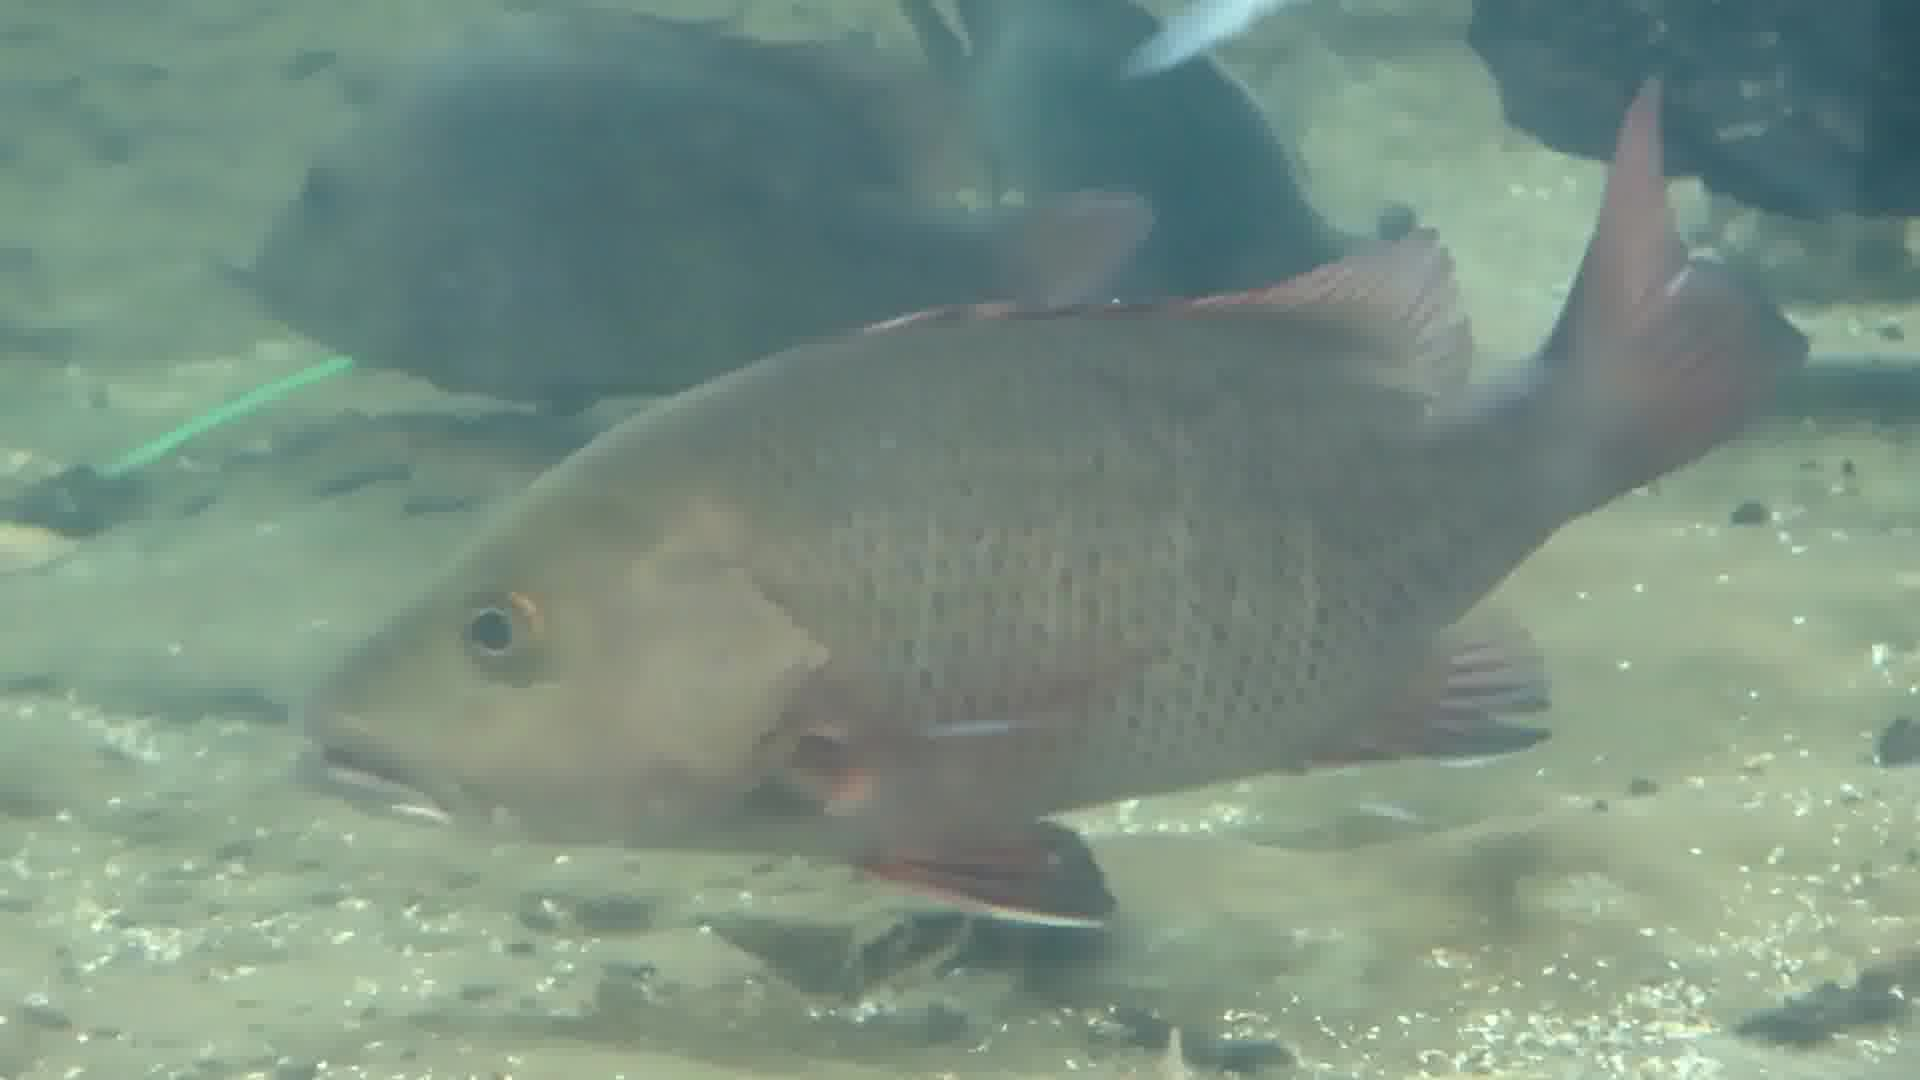Lutjanus argentimaculatus: (326, 302, 1582, 866)
